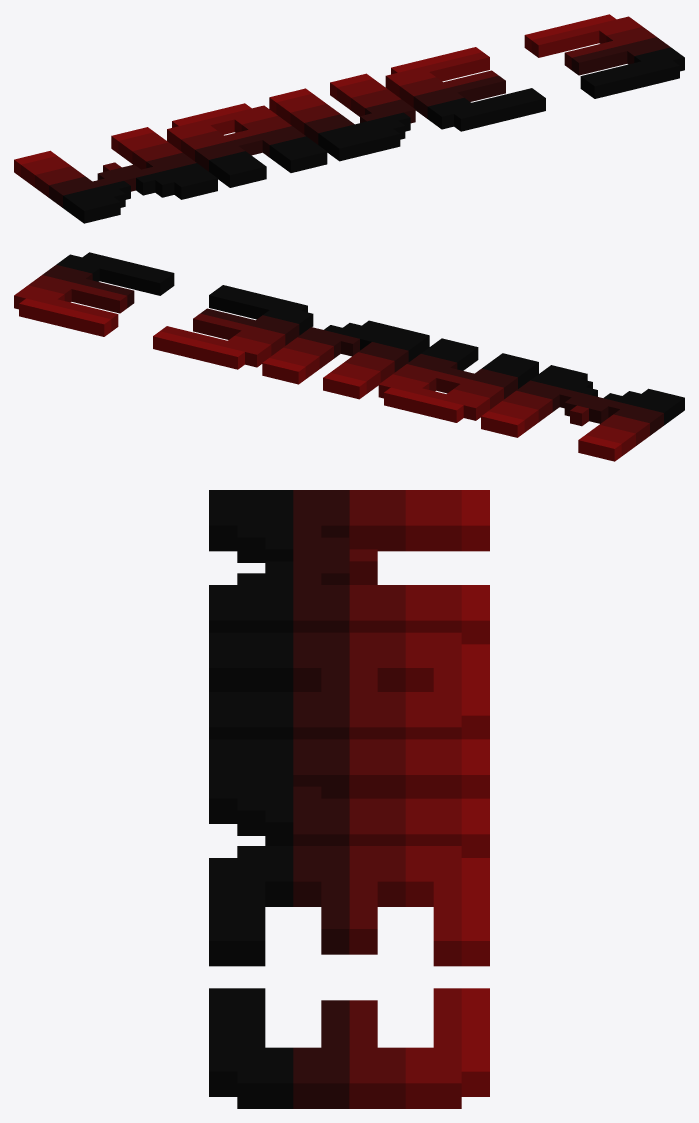
Rendered from Wave 3.obj.
3 renders of one model, top to bottom at view 1: azimuth 30°, elevation 25°; view 2: azimuth 150°, elevation 25°; view 3: azimuth 270°, elevation 25°, orthographic. The views are drawn at different scales.
Parts seen in each view (by area): view 1: Wave 3; view 2: Wave 3; view 3: Wave 3.
Boxes of the visible parts, x1,y1,x2,y2 form: Wave 3: (14,14,684,223); Wave 3: (14,252,684,461); Wave 3: (209,490,489,1108).
Bounding box in the file's own units: 50 × 1 × 10.
1 material, 1 textured.
